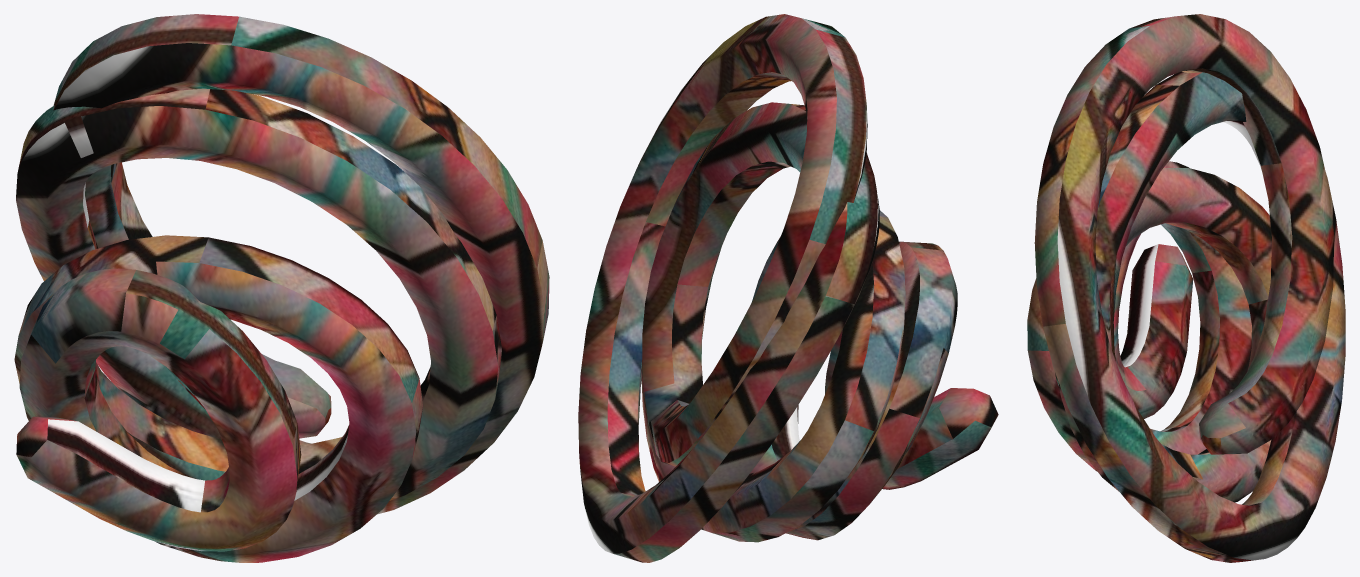
The model's file is swirl1.glb.
3 renders of one model, left to right at view 1: azimuth 30°, elevation 25°; view 2: azimuth 150°, elevation 25°; view 3: azimuth 270°, elevation 25°, orthographic. The views are drawn at different scales.
Visible parts, largest first — view 1: s.0651; view 2: s.0651; view 3: s.0651.
Boxes of the visible parts, bbox=[...] form: s.0651: bbox=[14, 14, 549, 562]; s.0651: bbox=[578, 14, 998, 562]; s.0651: bbox=[1027, 14, 1345, 562].
Bounding box in the file's own units: 1.55 × 1.79 × 1.09.
Materials: 1 (1 with a texture image).
